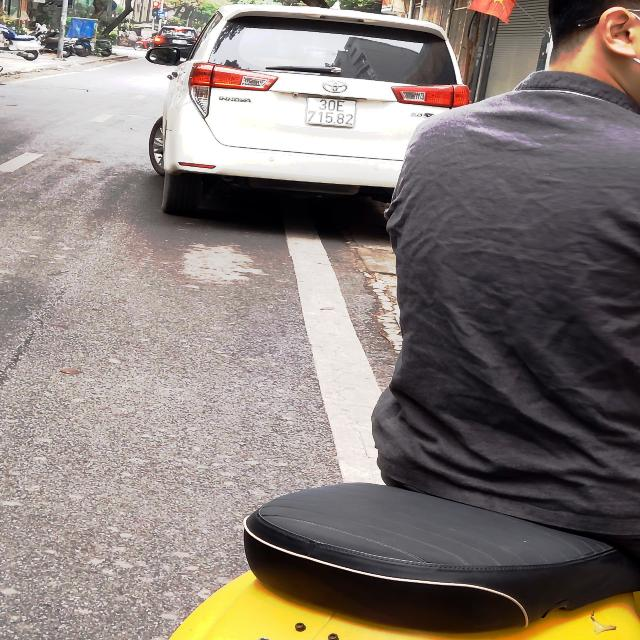license_plate: (304, 97, 359, 129)
